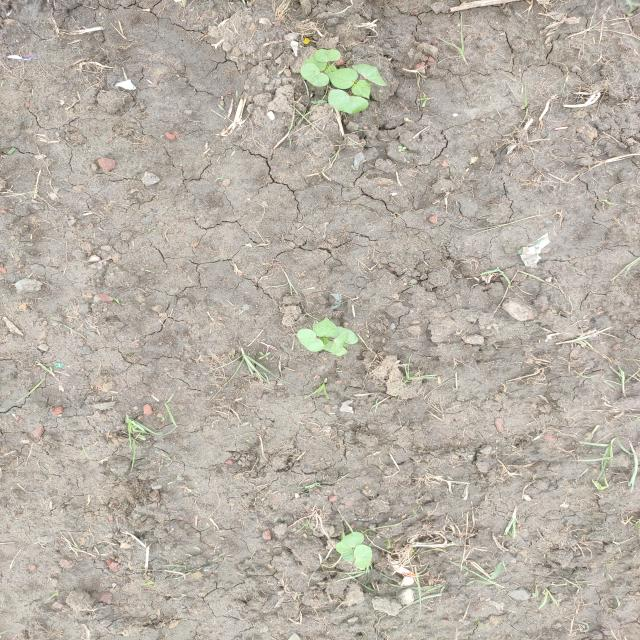seedling_s4: (328, 89, 368, 114), (352, 64, 388, 86), (301, 63, 329, 87), (326, 68, 358, 89), (297, 328, 325, 352), (335, 532, 364, 553), (331, 326, 358, 344), (313, 317, 337, 337), (354, 544, 372, 568), (332, 331, 350, 353), (351, 80, 371, 99), (313, 49, 341, 62), (303, 57, 327, 72), (324, 341, 347, 356), (341, 549, 356, 561), (324, 65, 337, 74)
